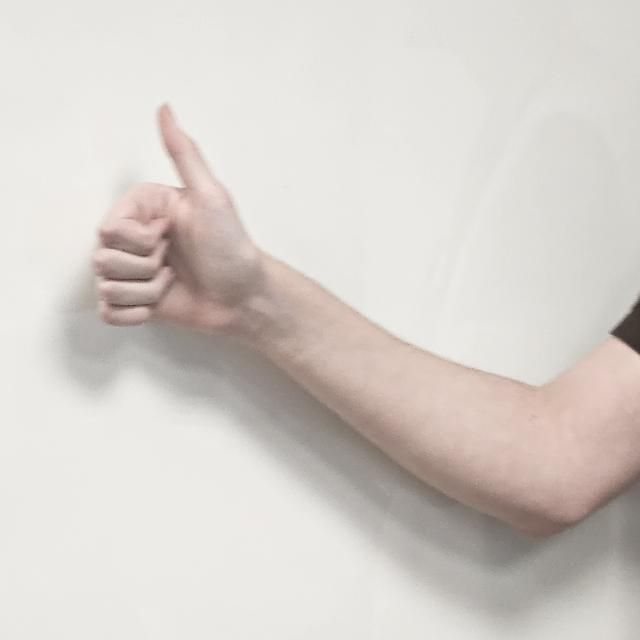Start: (96, 102, 272, 364)
